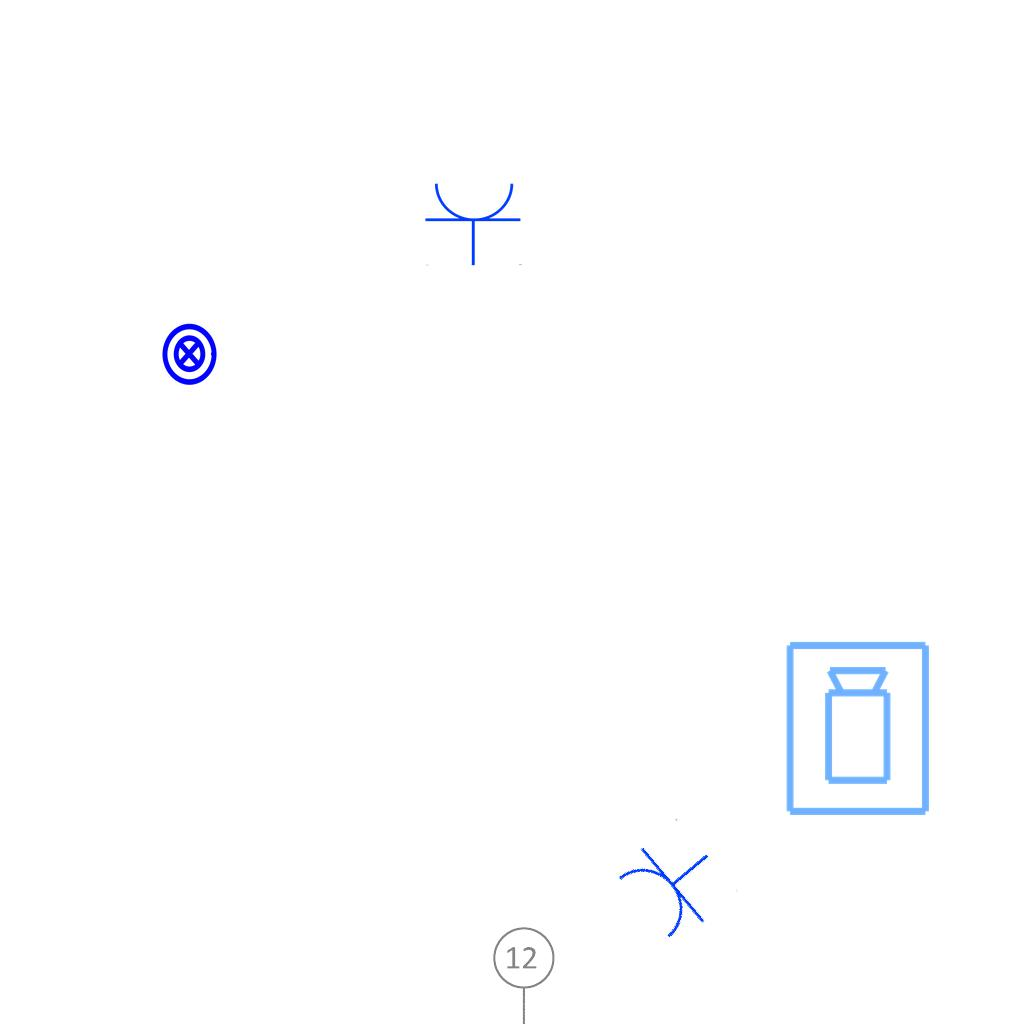KFO_Kamera_mit_Festobjektiv: (782, 638, 936, 820)
Schukosteckdose_einfach: (608, 816, 740, 949), (424, 179, 524, 266)
Taster_beleuchtet: (156, 321, 222, 387)
